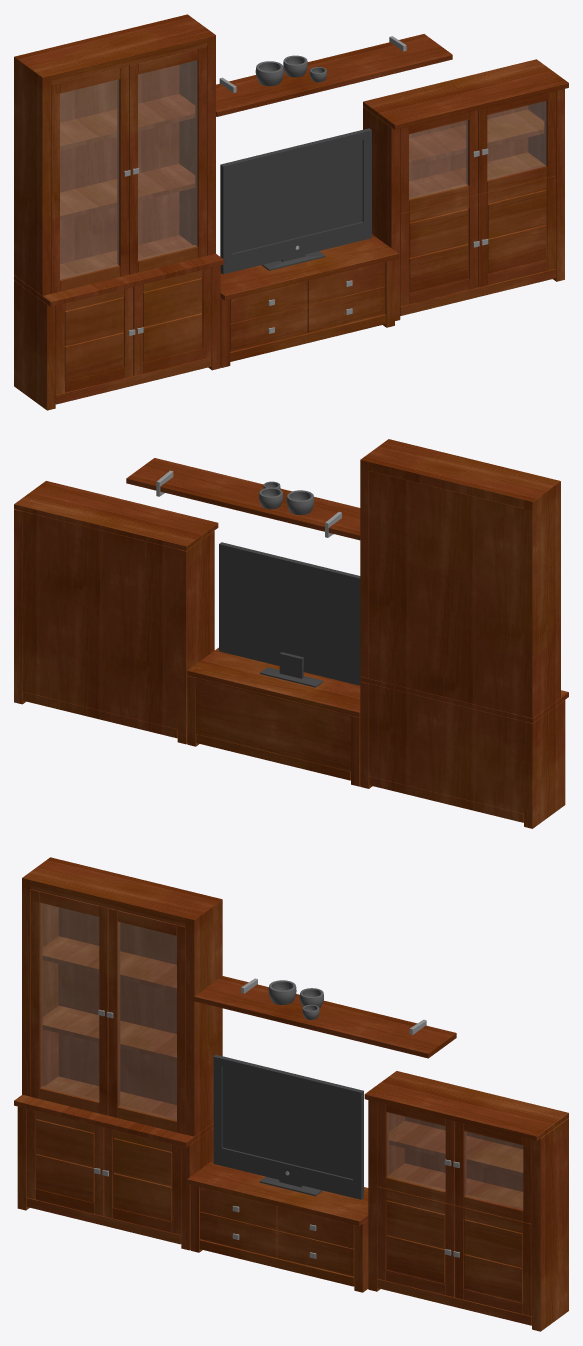
Rendered from sweethome3d-scopia-contemporary-living-room.glb.
3 views of the same model, one above another, from view 1: azimuth 30°, elevation 25°; view 2: azimuth 150°, elevation 25°; view 3: azimuth 330°, elevation 25° (orthographic).
Parts seen in each view (by area): view 1: big_sideboard_Cube, sideboard_Cube.002, tv_Cube.018, closet_Cube.001, shelf_Cube.003, bowl1_Circle.002; view 2: big_sideboard_Cube, sideboard_Cube.002, tv_Cube.018, closet_Cube.001, shelf_Cube.003, bowl1_Circle.002; view 3: big_sideboard_Cube, sideboard_Cube.002, tv_Cube.018, closet_Cube.001, shelf_Cube.003, bowl1_Circle.002.
Boxes of the visible parts, x1=… form: big_sideboard_Cube: x1=14, y1=14, x2=224, y2=410; sideboard_Cube.002: x1=363, y1=59, x2=568, y2=320; tv_Cube.018: x1=220, y1=128, x2=371, y2=274; closet_Cube.001: x1=220, y1=234, x2=398, y2=367; shelf_Cube.003: x1=216, y1=34, x2=452, y2=116; bowl1_Circle.002: x1=255, y1=61, x2=283, y2=86; big_sideboard_Cube: x1=360, y1=439, x2=568, y2=828; sideboard_Cube.002: x1=14, y1=481, x2=218, y2=744; tv_Cube.018: x1=219, y1=542, x2=360, y2=687; closet_Cube.001: x1=187, y1=647, x2=360, y2=786; shelf_Cube.003: x1=126, y1=458, x2=360, y2=540; bowl1_Circle.002: x1=286, y1=490, x2=314, y2=515; big_sideboard_Cube: x1=14, y1=857, x2=222, y2=1250; sideboard_Cube.002: x1=364, y1=1071, x2=568, y2=1331; tv_Cube.018: x1=213, y1=1054, x2=363, y2=1199; closet_Cube.001: x1=187, y1=1160, x2=368, y2=1292; shelf_Cube.003: x1=194, y1=976, x2=456, y2=1058; bowl1_Circle.002: x1=268, y1=980, x2=296, y2=1004.
Bounding box in the file's own units: 331 × 199 × 40.37.
Materials: 9 (2 with a texture image).
